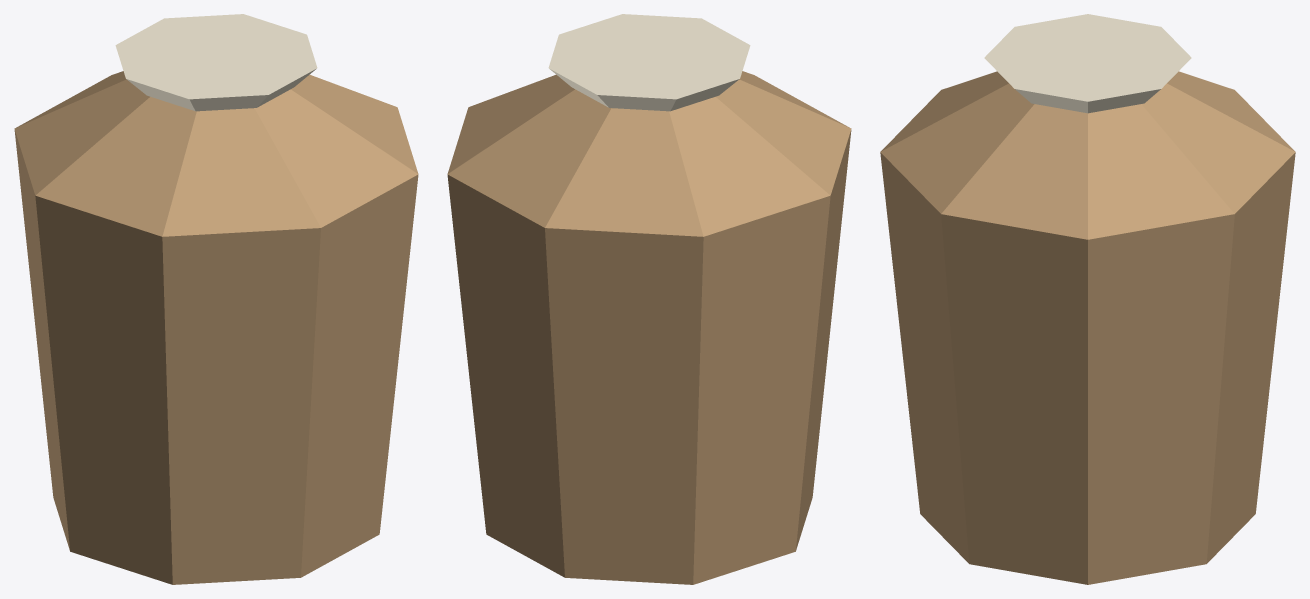
Rendered from grain_sack.glb.
3 renders of one model, left to right at view 1: azimuth 30°, elevation 25°; view 2: azimuth 150°, elevation 25°; view 3: azimuth 270°, elevation 25°, orthographic.
Parts seen in each view (by area): view 1: grain_sack; view 2: grain_sack; view 3: grain_sack.
Boxes of the visible parts, x1,y1,x2,y2 form: grain_sack: (14,14,418,584); grain_sack: (447,14,851,584); grain_sack: (880,14,1295,584).
Size of the model in its own units: 0.52 by 0.63 by 0.52.
